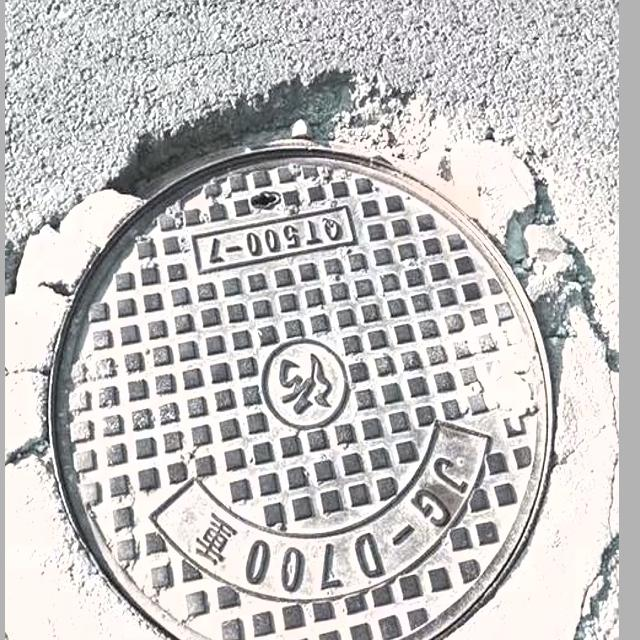circle: (23, 91, 598, 640)
